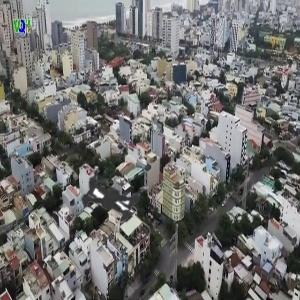drone: (25, 113, 208, 296)
